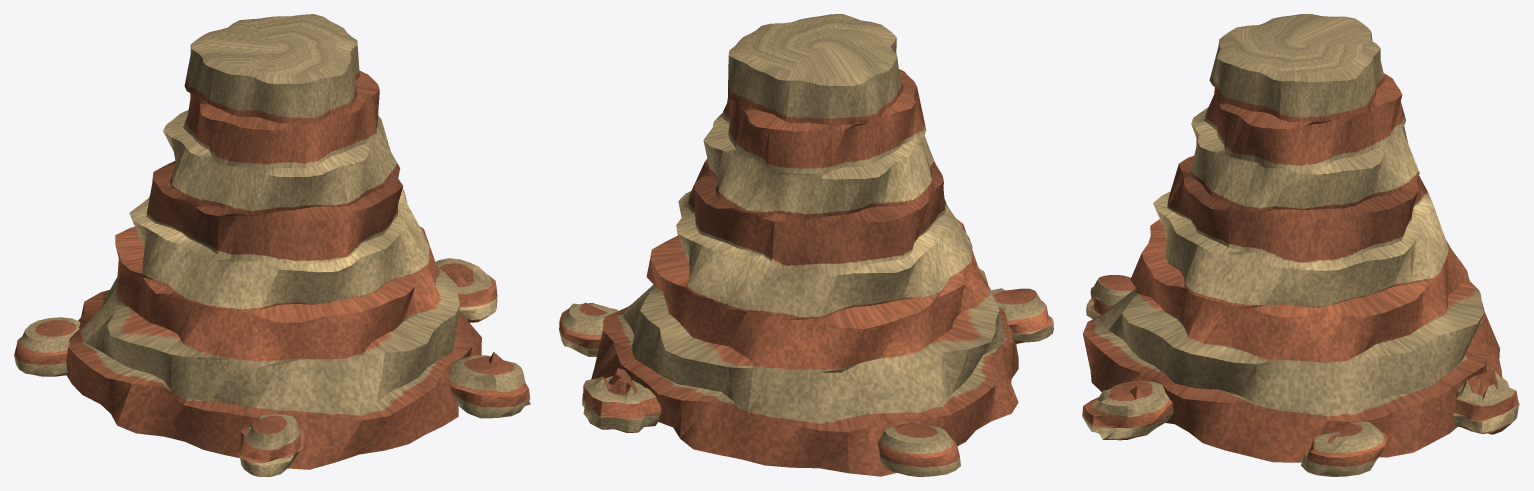
Rendered from SM_Desert_Mesa_Large.glb.
3 views of the same model, side by side, from view 1: azimuth 30°, elevation 25°; view 2: azimuth 150°, elevation 25°; view 3: azimuth 270°, elevation 25° (orthographic). The views are drawn at different scales.
Visible parts, largest first — view 1: SM_Desert_Mesa_Large; view 2: SM_Desert_Mesa_Large; view 3: SM_Desert_Mesa_Large.
Boxes of the visible parts, left/top/right/bottom form: SM_Desert_Mesa_Large: left=14, top=14, right=530, bottom=476; SM_Desert_Mesa_Large: left=559, top=14, right=1053, bottom=476; SM_Desert_Mesa_Large: left=1082, top=14, right=1519, bottom=476.
Size of the model in its own units: 9.61 by 7 by 8.51.
1 material, 1 textured.
